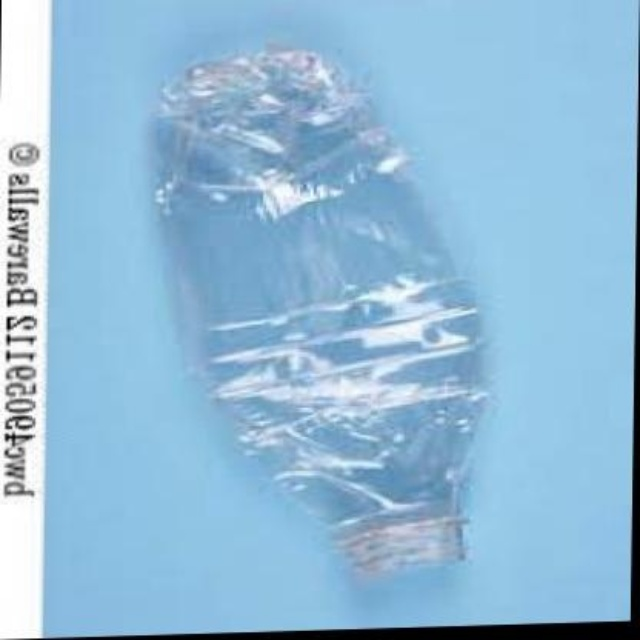trash: (154, 49, 485, 572)
